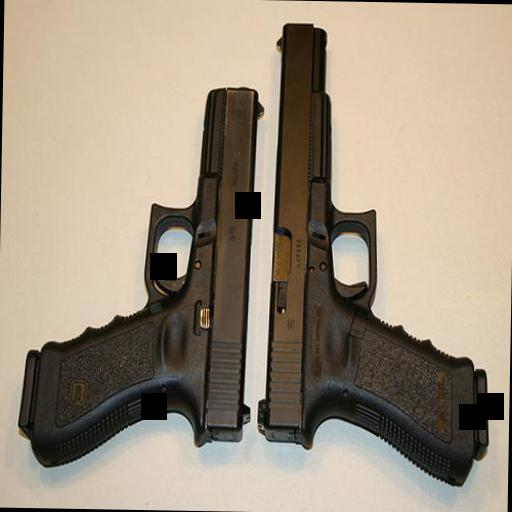Handgun: (254, 20, 495, 484), (11, 81, 263, 472)
